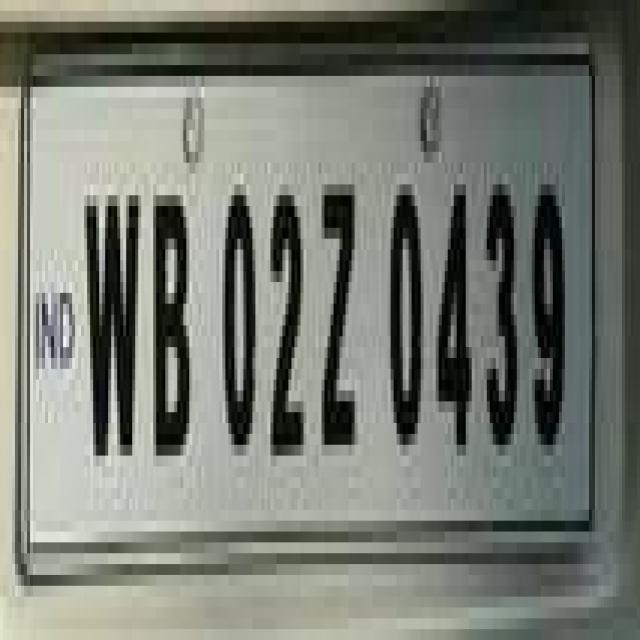license_plate: (6, 22, 604, 575)
